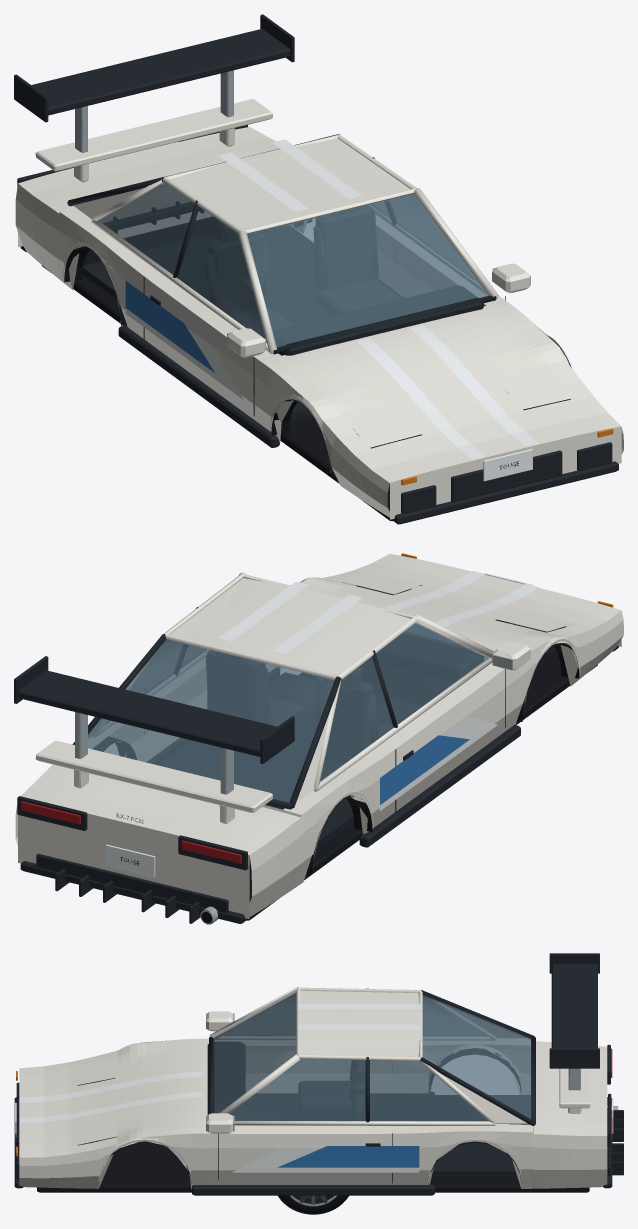
3 views of the same model, one above another, from view 1: azimuth 30°, elevation 25°; view 2: azimuth 150°, elevation 25°; view 3: azimuth 270°, elevation 25° (orthographic). The views are drawn at different scales.
Visible parts, largest first — view 1: LOD0_body, LOD0_cabin, LOD0_glass, LOD1_glass, LOD1_body, LOD0_hood, LOD1_hood, LOD0_spoiler_gt, LOD1_cabin, LOD1_vinyl_twin, LOD1_spoiler_stock, LOD0_vinyl_apex (+6 smaller); view 2: LOD0_body, LOD0_cabin, LOD0_glass, LOD1_glass, LOD1_body, LOD0_spoiler_gt, LOD1_cabin, LOD1_hood, LOD0_spoiler_stock, LOD1_spoiler_stock, LOD0_hood, LOD0_vinyl_apex (+5 smaller); view 3: LOD0_body, LOD1_glass, LOD0_glass, LOD0_cabin, LOD1_body, LOD0_hood, LOD0_spoiler_gt, LOD1_hood, LOD1_cabin, LOD0_vinyl_apex, LOD0_vinyl_twin, LOD1_vinyl_twin (+7 smaller).
Part boxes in pixels (x1=…): LOD0_body: x1=15, y1=125, x2=621, y2=524; LOD0_cabin: x1=67, y1=134, x2=498, y2=420; LOD0_glass: x1=99, y1=183, x2=488, y2=347; LOD1_glass: x1=99, y1=183, x2=488, y2=347; LOD1_body: x1=17, y1=127, x2=623, y2=524; LOD0_hood: x1=282, y1=305, x2=592, y2=473; LOD1_hood: x1=294, y1=315, x2=606, y2=478; LOD0_spoiler_gt: x1=14, y1=14, x2=294, y2=152; LOD1_cabin: x1=68, y1=134, x2=497, y2=420; LOD1_vinyl_twin: x1=220, y1=140, x2=538, y2=459; LOD1_spoiler_stock: x1=35, y1=99, x2=272, y2=181; LOD0_vinyl_apex: x1=125, y1=281, x2=243, y2=399; LOD0_body: x1=17, y1=553, x2=623, y2=924; LOD0_cabin: x1=72, y1=572, x2=493, y2=869; LOD0_glass: x1=88, y1=623, x2=487, y2=802; LOD1_glass: x1=88, y1=623, x2=487, y2=802; LOD1_body: x1=15, y1=554, x2=621, y2=924; LOD0_spoiler_gt: x1=14, y1=656, x2=294, y2=794; LOD1_cabin: x1=88, y1=574, x2=491, y2=868; LOD1_hood: x1=315, y1=556, x2=606, y2=650; LOD0_spoiler_stock: x1=36, y1=740, x2=272, y2=823; LOD1_spoiler_stock: x1=35, y1=740, x2=272, y2=823; LOD0_hood: x1=318, y1=560, x2=592, y2=659; LOD0_vinyl_apex: x1=379, y1=716, x2=497, y2=810; LOD0_body: x1=14, y1=1011, x2=623, y2=1195; LOD1_glass: x1=213, y1=993, x2=531, y2=1121; LOD0_glass: x1=213, y1=993, x2=531, y2=1121; LOD0_cabin: x1=207, y1=987, x2=535, y2=1176; LOD1_body: x1=15, y1=1011, x2=611, y2=1194; LOD0_hood: x1=19, y1=1045, x2=207, y2=1150; LOD0_spoiler_gt: x1=549, y1=953, x2=599, y2=1090; LOD1_hood: x1=19, y1=1046, x2=191, y2=1151; LOD1_cabin: x1=212, y1=987, x2=535, y2=1176; LOD0_vinyl_apex: x1=232, y1=1146, x2=419, y2=1172; LOD0_vinyl_twin: x1=26, y1=1004, x2=420, y2=1123; LOD1_vinyl_twin: x1=19, y1=1004, x2=420, y2=1123.
Bounding box in the file's own units: 1.95 × 1.7 × 4.49.
